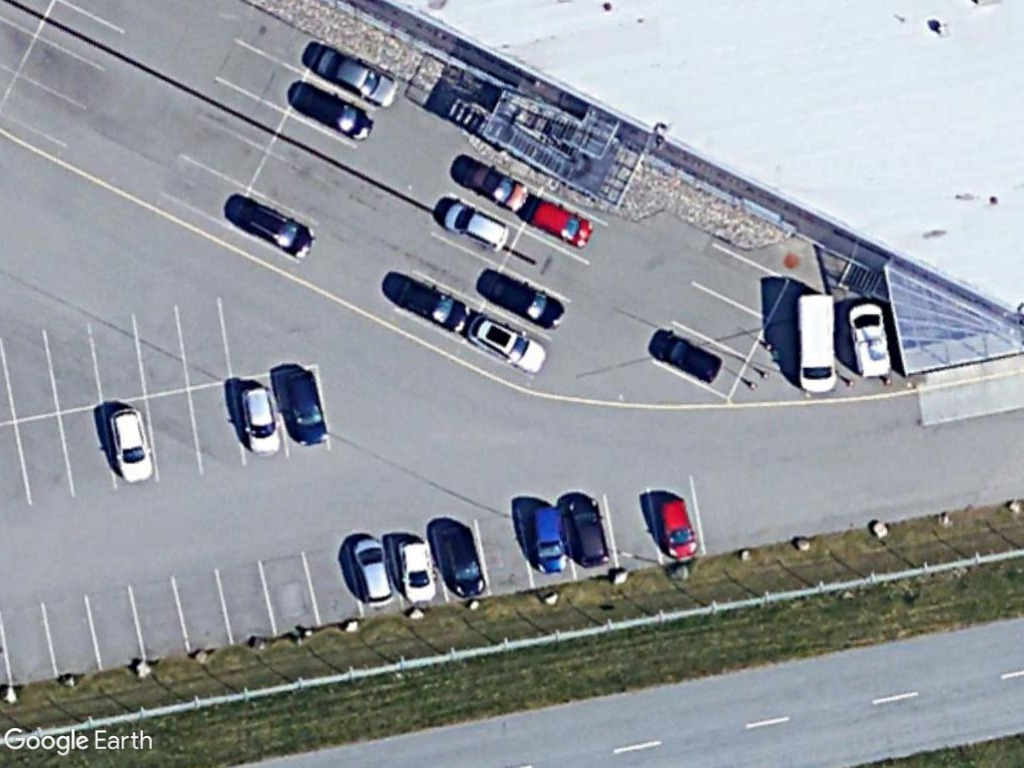car: (316, 43, 400, 112), (465, 312, 549, 375), (239, 197, 319, 262), (296, 81, 377, 145), (489, 273, 569, 329), (397, 278, 471, 336), (106, 404, 157, 486), (460, 157, 532, 215), (279, 367, 330, 447), (444, 201, 517, 256), (655, 331, 726, 387), (526, 194, 597, 249), (441, 522, 489, 601), (237, 381, 286, 457), (351, 533, 399, 610), (565, 492, 611, 569), (531, 503, 574, 578), (395, 534, 440, 603), (657, 495, 701, 563)
van: (792, 288, 840, 396), (846, 298, 895, 384)
